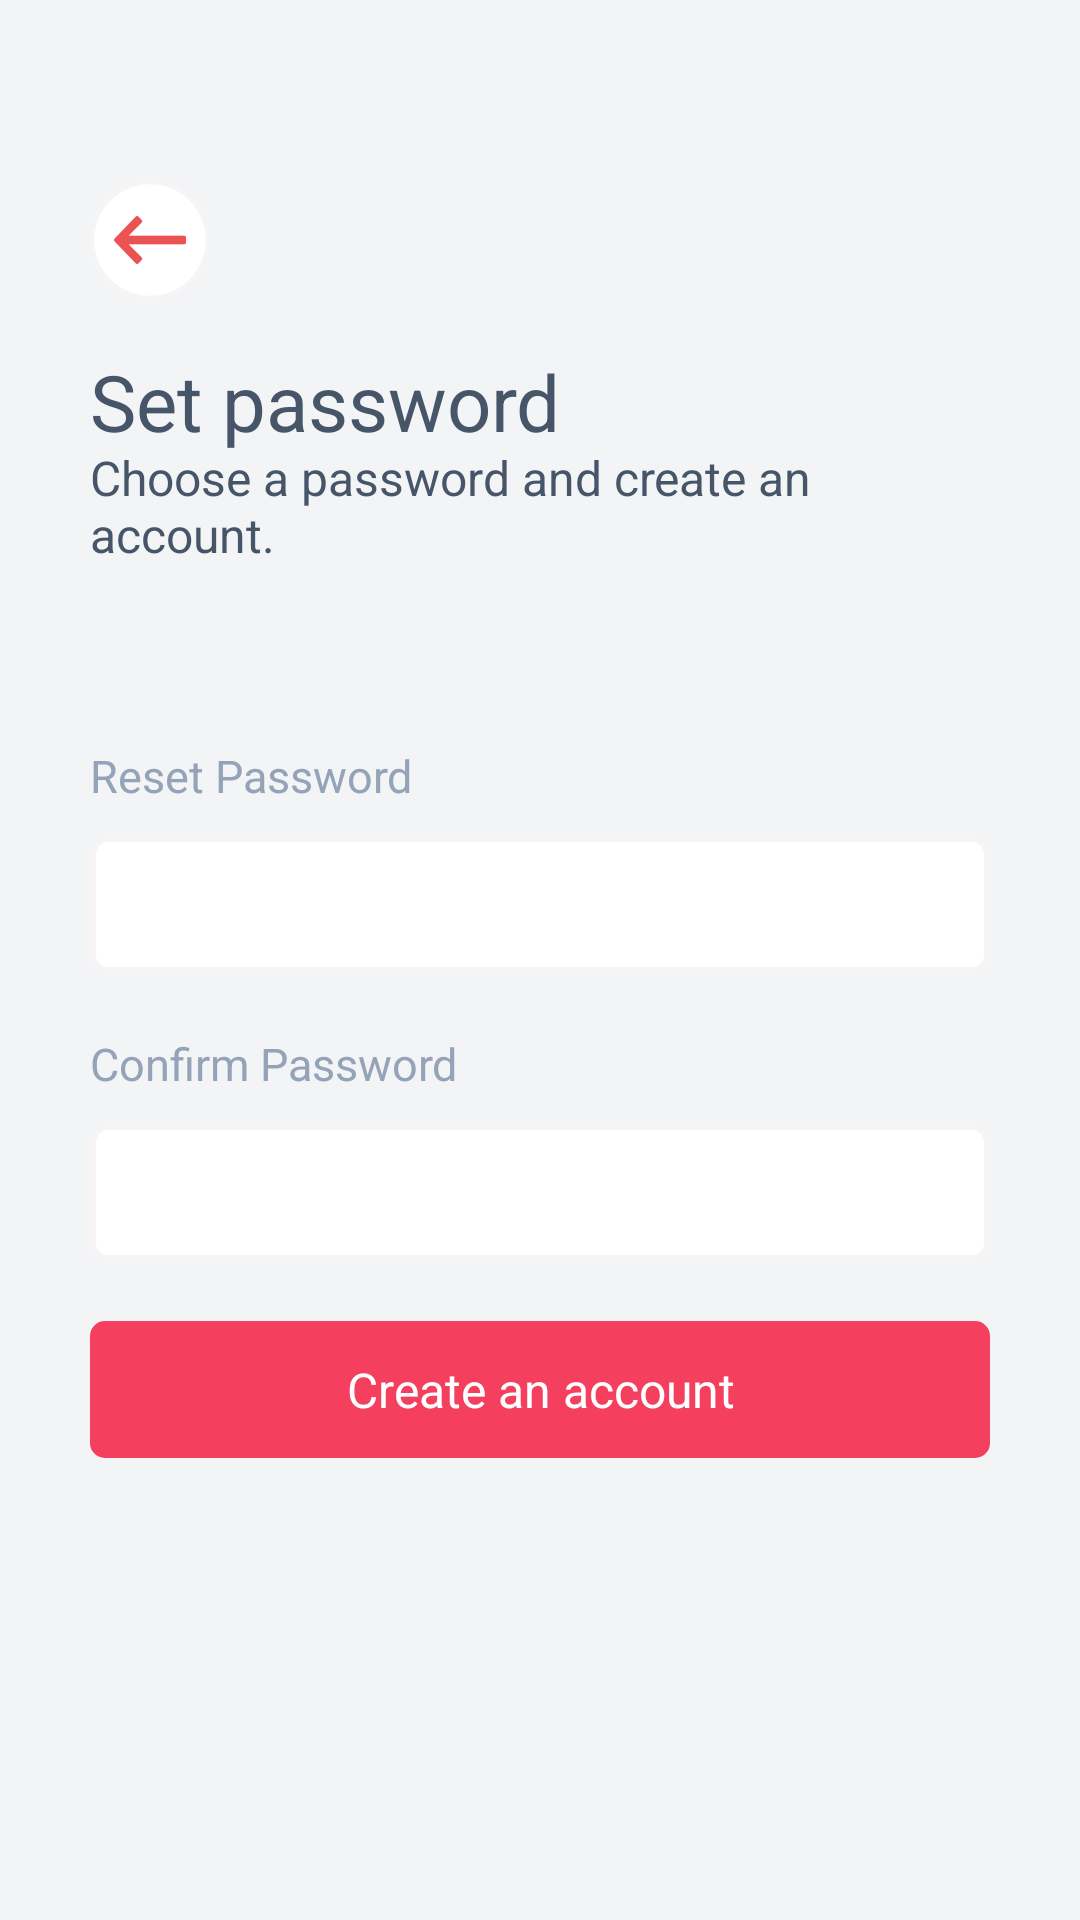

Where icons sit on this 1080px×1920px app screen, as (x1, y1, x2, y2):
back: (94, 184, 206, 296)
